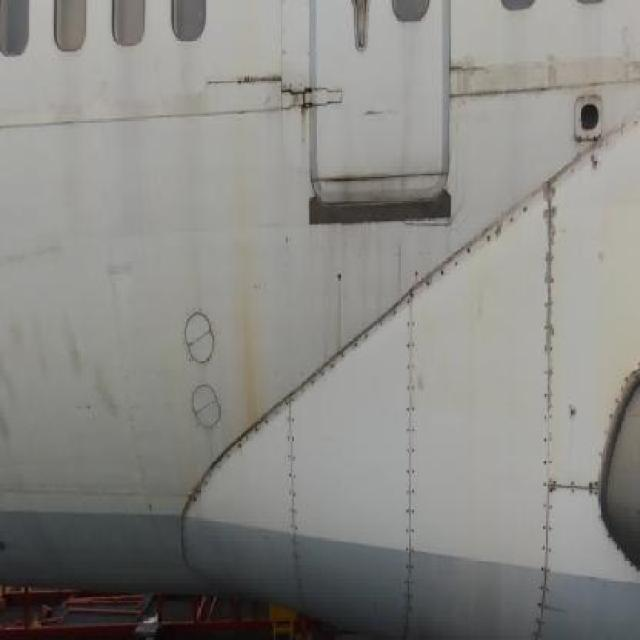Missing-Rivet: (533, 173, 562, 635), (420, 205, 531, 309), (298, 303, 400, 403), (395, 284, 423, 628), (567, 117, 640, 197), (280, 389, 312, 571), (208, 410, 280, 482), (567, 459, 601, 518)
Rust: (220, 189, 274, 433), (292, 80, 318, 149)
Scartch: (2, 307, 122, 473), (450, 49, 570, 116), (0, 219, 80, 279), (98, 242, 134, 306), (615, 6, 640, 97)
